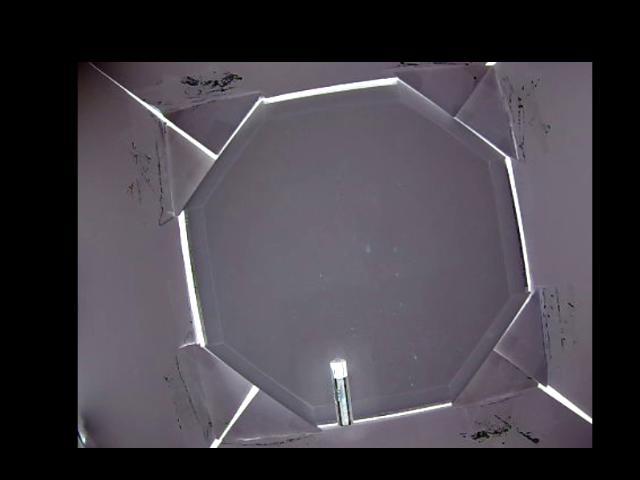Battery: (328, 358, 356, 427)
